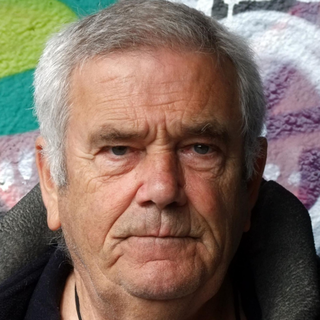eye: (94, 140, 141, 164), (179, 136, 223, 161)
